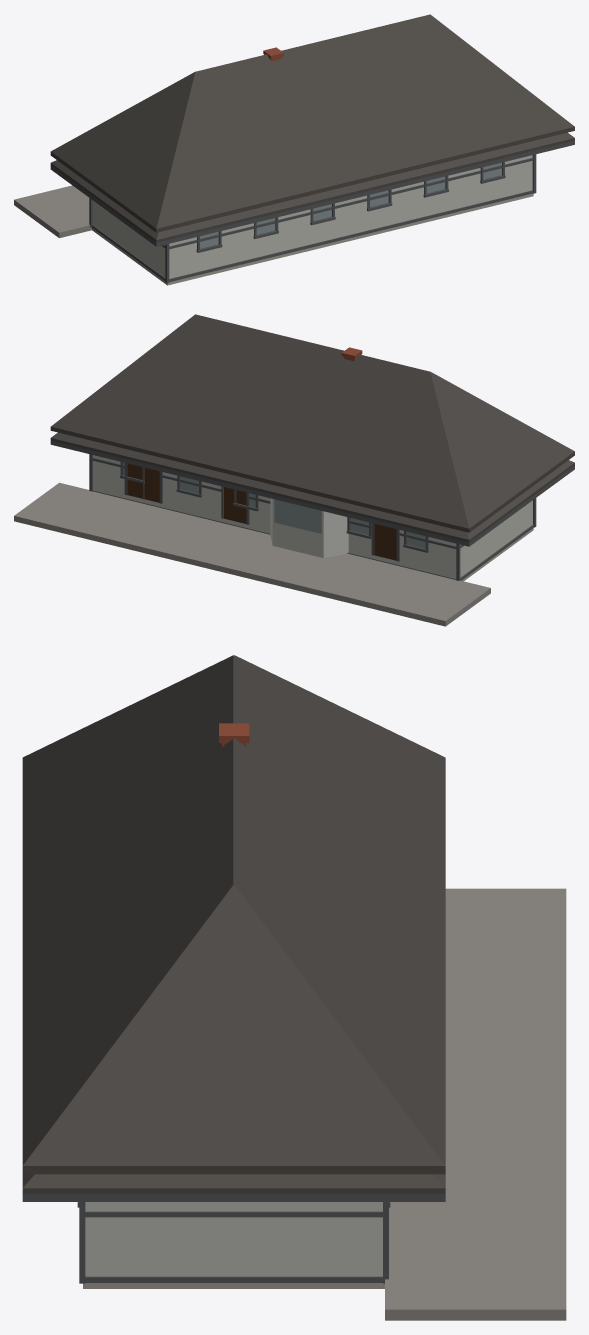
File: Stowell_Depot.glb
3 renders of one model, top to bottom at view 1: azimuth 30°, elevation 25°; view 2: azimuth 150°, elevation 25°; view 3: azimuth 270°, elevation 25°, orthographic. The views are drawn at different scales.
Parts seen in each view (by area): view 1: roof, walls, trim, platform, foundation, glass, sash; view 2: roof, platform, walls, trim, doors, glass, sash; view 3: roof, platform, walls, trim, foundation.
Part boxes in pixels (x1,y1,x2,y2): roof: [50, 14, 574, 242]; walls: [92, 155, 532, 278]; trim: [50, 140, 574, 282]; platform: [14, 185, 91, 238]; foundation: [92, 193, 533, 285]; glass: [200, 163, 501, 248]; sash: [196, 162, 505, 252]; roof: [50, 314, 574, 542]; platform: [14, 482, 490, 626]; walls: [93, 455, 532, 578]; trim: [50, 440, 574, 580]; doors: [127, 463, 396, 560]; glass: [123, 463, 425, 548]; sash: [120, 462, 428, 552]; roof: [22, 655, 445, 1193]; platform: [385, 888, 566, 1320]; walls: [85, 1202, 382, 1276]; trim: [22, 1194, 445, 1283]; foundation: [83, 1283, 384, 1288].
Size of the model in its own units: 0.6937 by 0.2628 by 0.3784.
